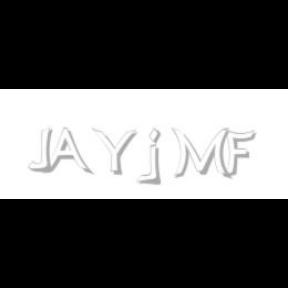A: (42, 128, 90, 176)
F: (223, 128, 255, 178)
J: (28, 128, 53, 172)
M: (170, 128, 230, 180)
Y: (91, 128, 137, 176)
j: (146, 128, 176, 186)
